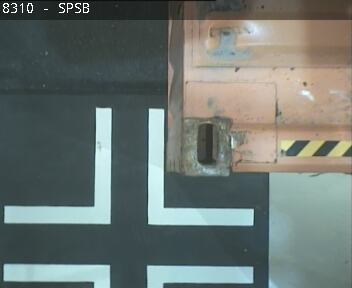groundmarker_1: (4, 109, 253, 224)
